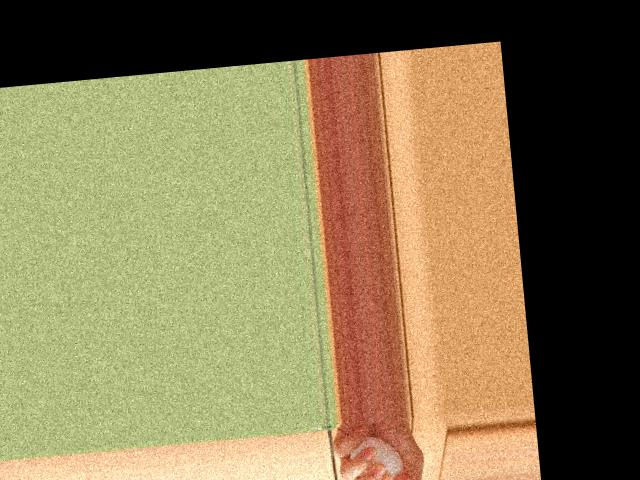egg: (347, 433, 404, 480)
